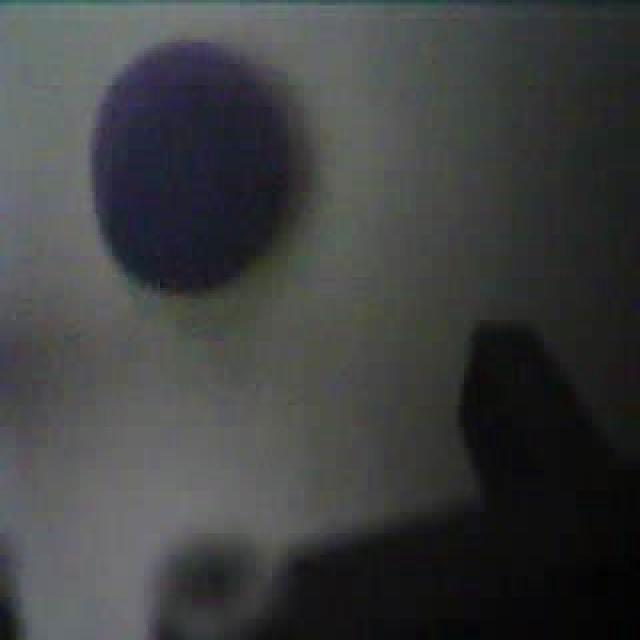blue_ball: (88, 34, 300, 298)
